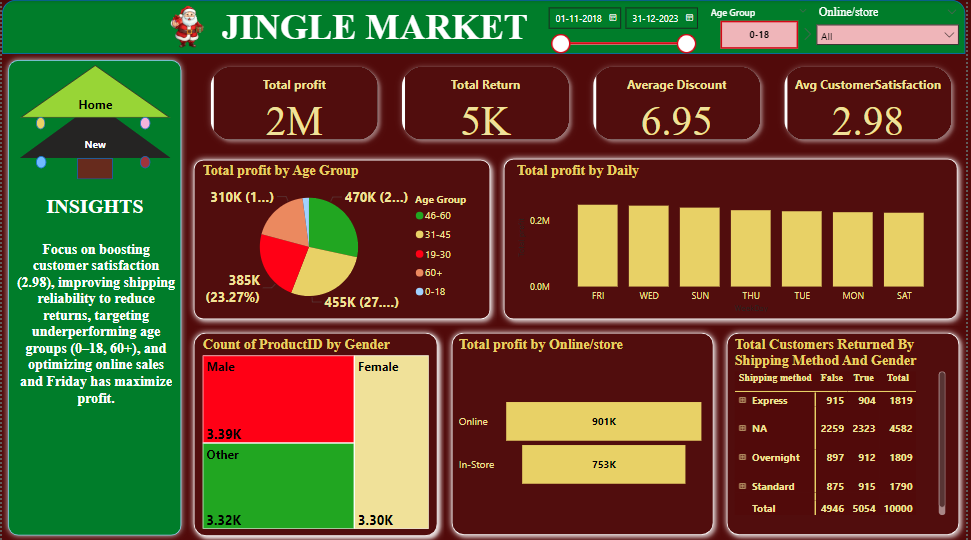

The page's visual inventory and layout, read from the dashboard file:
{"tool":"powerbi","page":{"name":"New","canvas":[1280,720],"ordinal":1},"visuals":[{"type":"shape","box":[0,0,1279.7,71.9],"z":0},{"type":"shape","box":[0,71.6,246.3,647.8],"z":1000},{"type":"shape","box":[658.2,201.5,620.9,231.3],"z":2000},{"type":"shape","box":[246.3,203,411.9,229.9],"z":3000},{"type":"cardVisual","fields":{"Data":["Christmas Sales and Trends.Total profit","Christmas Sales and Trends.Total Return","Christmas Sales and Trends.Average Discount","Christmas Sales and Trends.Avg CustomerSatifaction"]},"box":[260.9,71.9,1018.8,131.2],"z":4000},{"type":"pieChart","fields":{"Category":["Christmas Sales and Trends.Age Group"],"Y":["Christmas Sales and Trends.Total profit"]},"box":[261.2,214.9,379.1,204.5],"z":5000},{"type":"lineStackedColumnComboChart","title":"Total profit by Daily","fields":{"Y":["Christmas Sales and Trends.Total profit"],"Category":["Christmas Sales and Trends.Day of week","Christmas Sales and Trends.Day of Week"]},"box":[679.1,214.9,579.1,204.5],"z":6000},{"type":"shape","box":[246.3,432.8,341.8,288.1],"z":7000},{"type":"treemap","fields":{"Group":["Christmas Sales and Trends.Gender"],"Values":["CountNonNull(Christmas Sales and Trends.ProductID)"]},"box":[261.2,446.3,310.4,261.2],"z":8000},{"type":"shape","box":[588.1,432.8,365.7,286.6],"z":9000},{"type":"funnel","fields":{"Y":["Christmas Sales and Trends.Total profit"],"Category":["Christmas Sales and Trends.Online/store"]},"box":[601.5,446.3,337.3,261.2],"z":10000},{"type":"slicer","fields":{"Values":["Christmas Sales and Trends.Date"]},"box":[713.4,0,216.5,71.7],"z":11000},{"type":"slicer","fields":{"Values":["Christmas Sales and Trends.Age Group"]},"box":[929,2.8,152.8,68.8],"z":12000},{"type":"slicer","fields":{"Values":["Christmas Sales and Trends.Online/store"]},"box":[1071.6,3,209,68.7],"z":13000},{"type":"textbox","box":[286.6,3,426.9,68.7],"z":14000},{"type":"pageNavigator","box":[23.9,137.3,200,73.1],"z":15000},{"type":"pageNavigator","box":[23.9,86.6,200,70.1],"z":16000},{"type":"image","box":[206,0,80.6,71.6],"z":17000},{"type":"shape","box":[953.7,432.8,326.9,286.6],"z":18000},{"type":"pivotTable","title":"Total Customers Returned By Shipping Method And Gender","fields":{"Rows":["Christmas Sales and Trends.Shipping method","Christmas Sales and Trends.Gender"],"Values":["CountNonNull(Christmas Sales and Trends.CustomerID)"],"Columns":["Christmas Sales and Trends.ReturnFlag"]},"box":[968.7,446.3,289.6,243.3],"z":19000},{"type":"shape","box":[100,210.4,47.8,28.4],"z":20000},{"type":"textbox","box":[24.8,253.2,196.8,61.9],"z":21000},{"type":"textbox","box":[14.6,314.8,220.5,249.7],"z":22000},{"type":"shape","box":[45.4,155.5,12.4,16.5],"z":23000},{"type":"shape","box":[183.1,155.5,13.8,16.5],"z":24000},{"type":"shape","box":[45.4,207.8,13.8,16.5],"z":25000},{"type":"shape","box":[183.1,207.8,13.8,16.5],"z":26000}]}

Visuals, with their boxes in screenshot pixels (x1, y1, x2, y2), scaled from the page's 1280x720 canvas onto the 971x540 screenshot:
shape: (x1=0, y1=0, x2=970, y2=54)
shape: (x1=0, y1=54, x2=187, y2=539)
shape: (x1=499, y1=151, x2=970, y2=325)
shape: (x1=187, y1=152, x2=499, y2=325)
cardVisual - Christmas Sales and Trends.Total profit x Christmas Sales and Trends.Total Return: (x1=198, y1=54, x2=970, y2=152)
pieChart - Christmas Sales and Trends.Age Group x Christmas Sales and Trends.Total profit: (x1=198, y1=161, x2=486, y2=315)
"Total profit by Daily" lineStackedColumnComboChart: (x1=515, y1=161, x2=954, y2=315)
shape: (x1=187, y1=325, x2=446, y2=539)
treemap - Christmas Sales and Trends.Gender x CountNonNull(Christmas Sales and Trends.ProductID): (x1=198, y1=335, x2=434, y2=531)
shape: (x1=446, y1=325, x2=724, y2=539)
funnel - Christmas Sales and Trends.Total profit x Christmas Sales and Trends.Online/store: (x1=456, y1=335, x2=712, y2=531)
slicer - Christmas Sales and Trends.Date: (x1=541, y1=0, x2=705, y2=54)
slicer - Christmas Sales and Trends.Age Group: (x1=705, y1=2, x2=821, y2=54)
slicer - Christmas Sales and Trends.Online/store: (x1=813, y1=2, x2=970, y2=54)
textbox: (x1=217, y1=2, x2=541, y2=54)
pageNavigator: (x1=18, y1=103, x2=170, y2=158)
pageNavigator: (x1=18, y1=65, x2=170, y2=118)
image: (x1=156, y1=0, x2=217, y2=54)
shape: (x1=723, y1=325, x2=970, y2=539)
"Total Customers Returned By Shipping Method And Gender" pivotTable: (x1=735, y1=335, x2=955, y2=517)
shape: (x1=76, y1=158, x2=112, y2=179)
textbox: (x1=19, y1=190, x2=168, y2=236)
textbox: (x1=11, y1=236, x2=178, y2=423)
shape: (x1=34, y1=117, x2=44, y2=129)
shape: (x1=139, y1=117, x2=149, y2=129)
shape: (x1=34, y1=156, x2=45, y2=168)
shape: (x1=139, y1=156, x2=149, y2=168)
